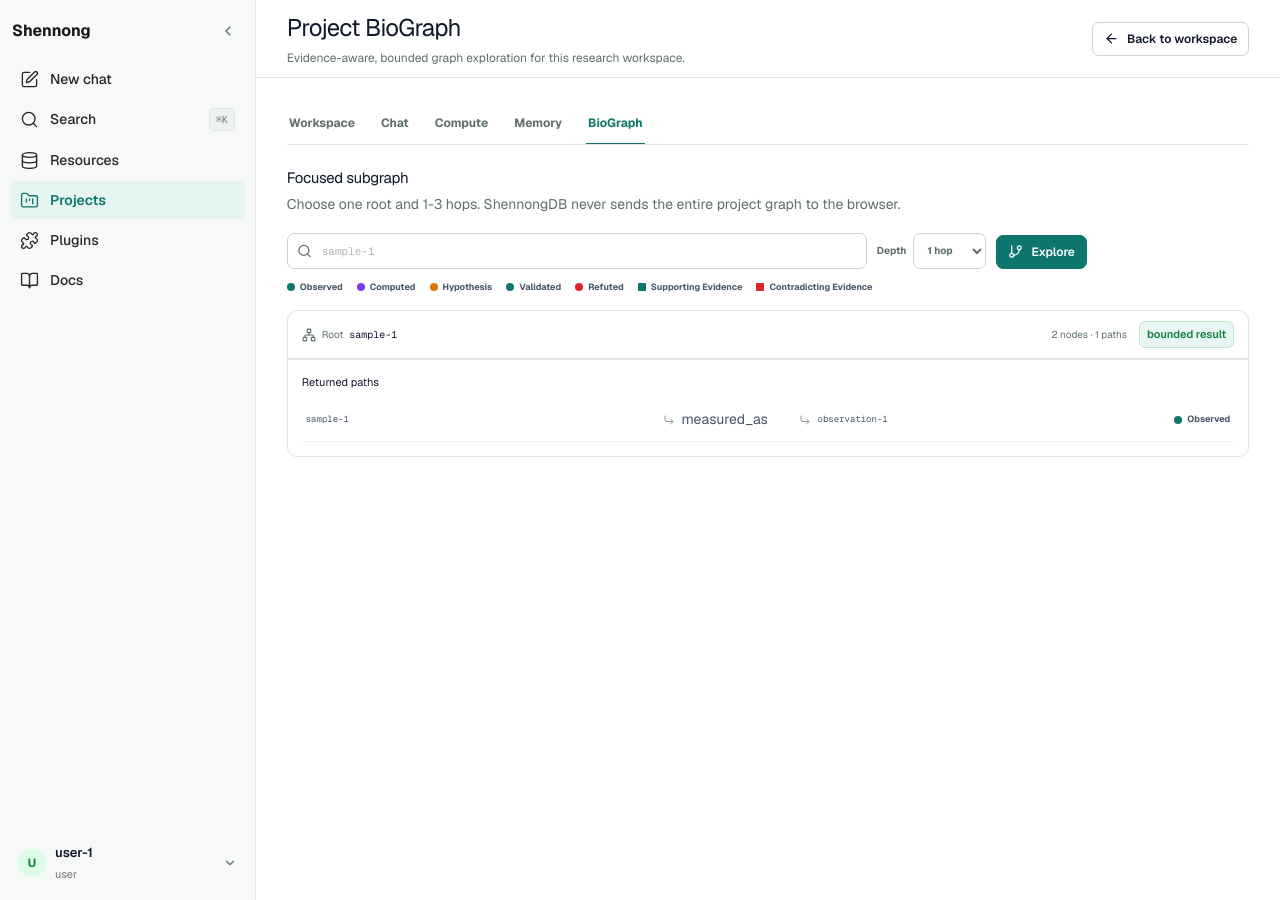
it: ProjectGraphView › requests a bounded 1-3 hop graph and fetches evidence for the selected association
Expected: the text "sample-1" in the row of "nodes ·" is shown, left=349, top=328, right=397, bottom=341
Select "3 hops" in the dropdown named "Graph depth" at (950, 250), box left=913, top=232, right=986, bottom=268
(page scrolled)
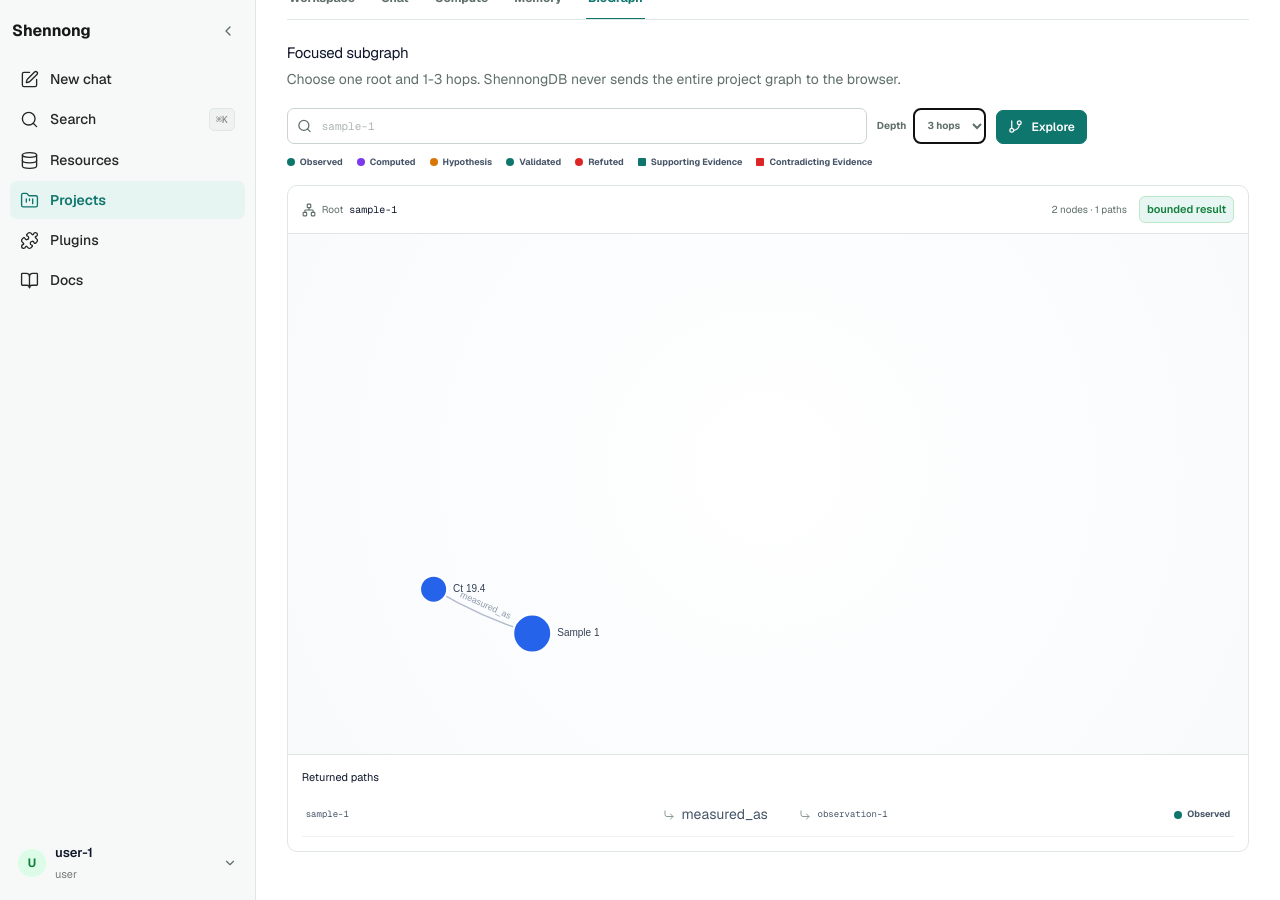
Click the button "sample-1 measured_as observation-1 observed".
click(768, 815)  # box left=302, top=794, right=1234, bottom=836
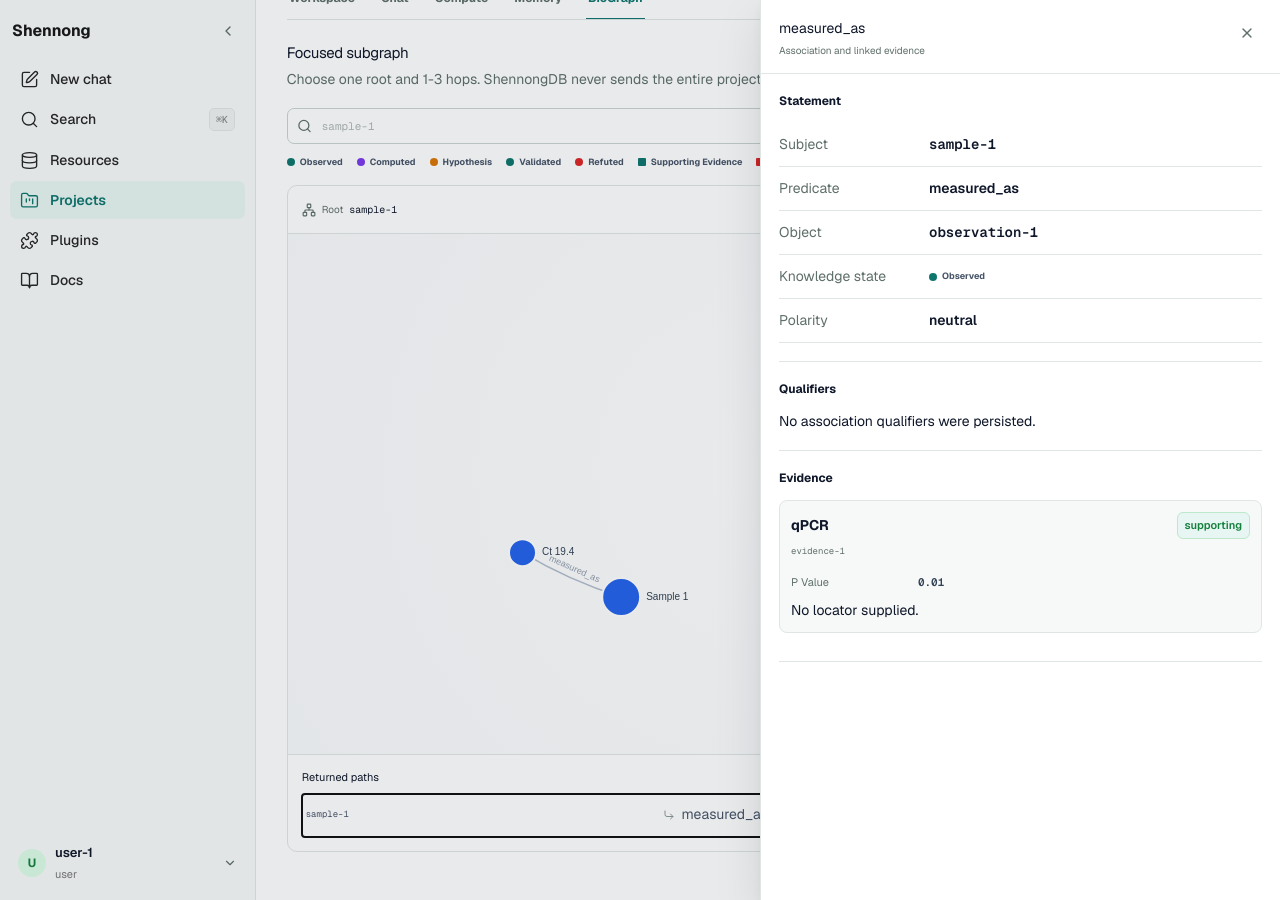
Expected: the dialog named "Association evidence" is shown, left=760, top=0, right=1279, bottom=899
Expected: the text "qPCR" is shown, left=791, top=515, right=829, bottom=536
Expected: the text "supporting" is shown, left=1176, top=512, right=1250, bottom=538
